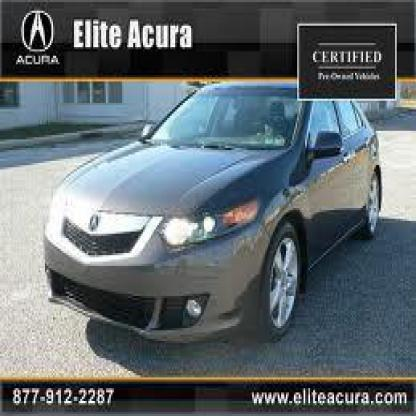Vehicle: (42, 79, 387, 356)
